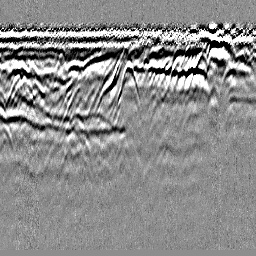cavity: (116, 58, 141, 104)
